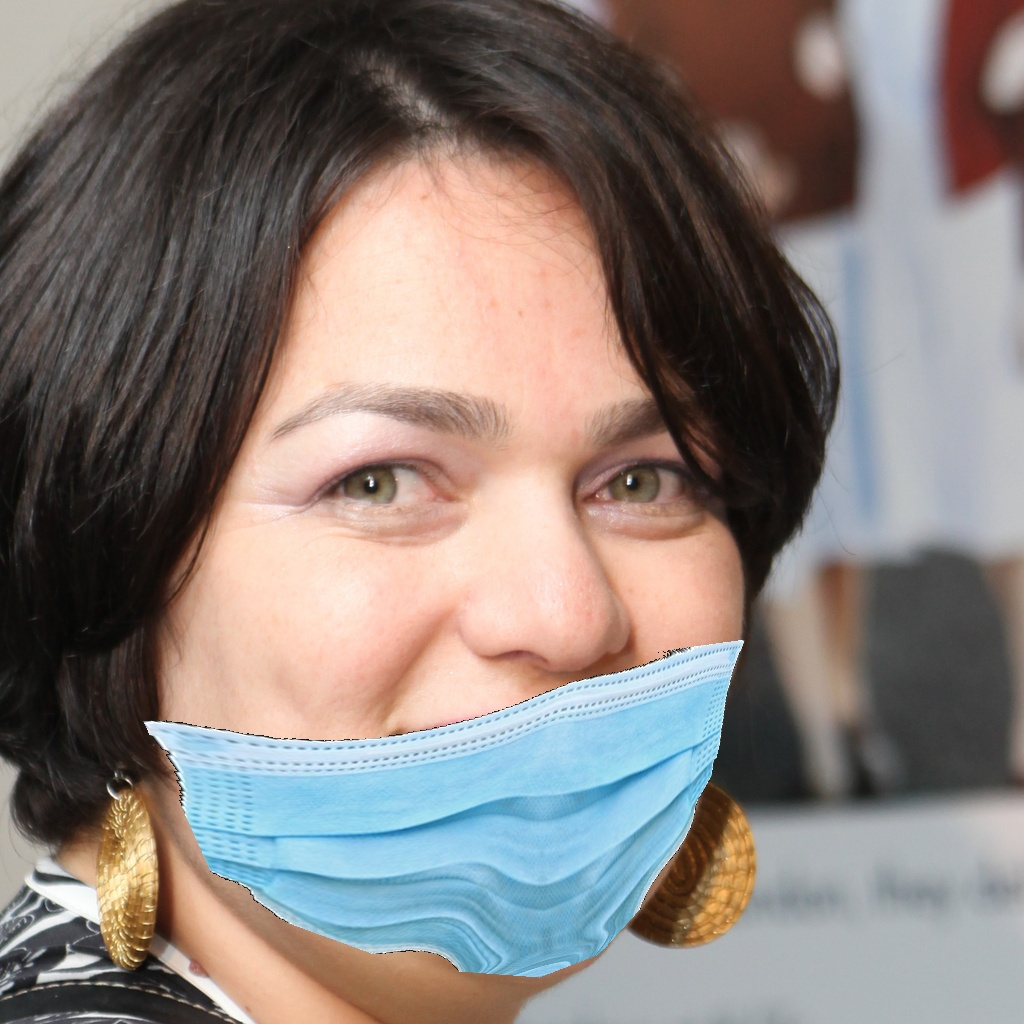Mask_Mouth_Chin: (145, 371, 756, 985)
